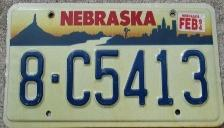1: (154, 47, 176, 107)
3: (180, 47, 211, 107)
4: (122, 47, 152, 108)
5: (93, 47, 122, 107)
8: (17, 47, 47, 108)
C: (64, 46, 93, 108)
